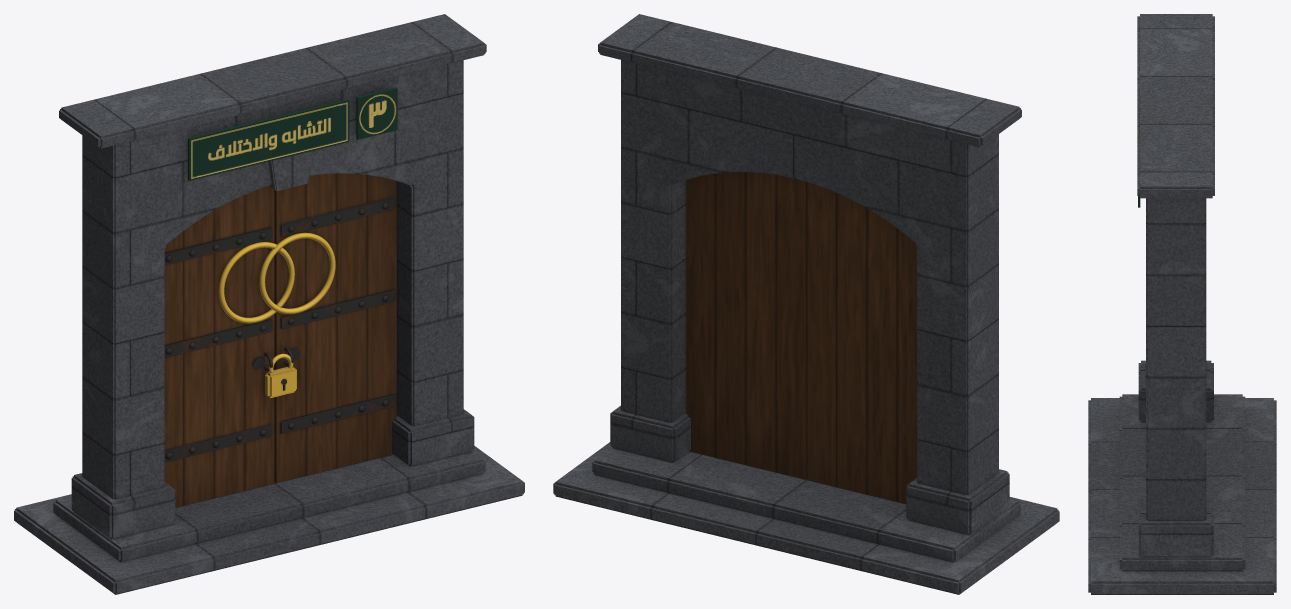
Rendered from door-compare.glb.
3 views of the same model, side by side, from view 1: azimuth 30°, elevation 25°; view 2: azimuth 150°, elevation 25°; view 3: azimuth 270°, elevation 25° (orthographic). The views are drawn at different scales.
Visible parts, largest first — view 1: frame, leaf_R, leaf_L, sign, lock; view 2: frame, leaf_R, leaf_L; view 3: frame.
Boxes of the visible parts, x1,y1,x2,y2 form: frame: (14, 14, 524, 594); leaf_R: (259, 173, 396, 483); leaf_L: (164, 185, 294, 507); sign: (188, 87, 397, 180); lock: (265, 353, 296, 398); frame: (553, 14, 1059, 594); leaf_R: (686, 172, 807, 479); leaf_L: (807, 182, 916, 504); frame: (1088, 14, 1276, 594).
Size of the model in its own units: 3.5 by 3.54 by 1.5.
2 materials, 2 textured.
